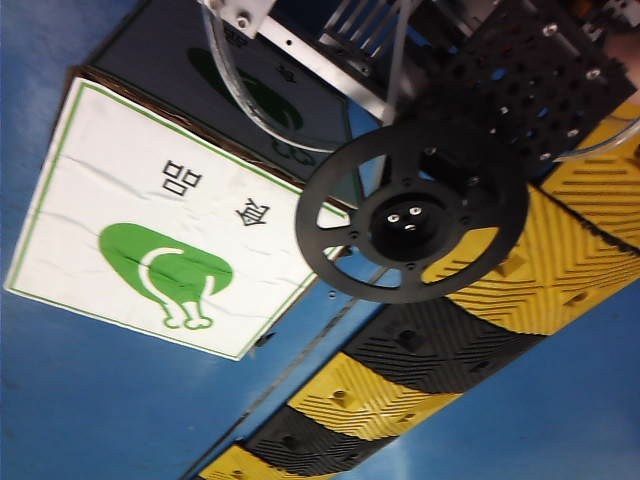Cube_food: (78, 153, 291, 335)
